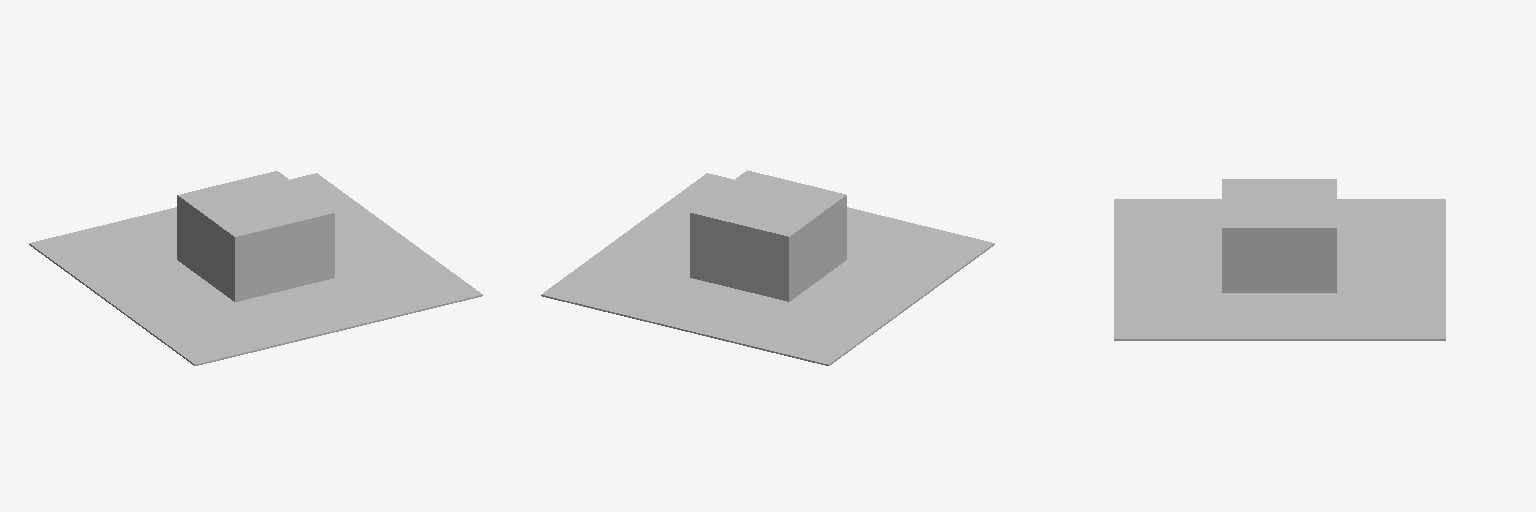
3 views of the same model, side by side, from view 1: azimuth 30°, elevation 25°; view 2: azimuth 150°, elevation 25°; view 3: azimuth 270°, elevation 25° (orthographic).
Parts seen in each view (by area): view 1: Floor, Skybox; view 2: Floor, Skybox; view 3: Floor, Skybox.
Part boxes in pixels (x1,y1,x2,y2): Floor: (29,173,482,365); Skybox: (177,171,334,301); Floor: (541,173,994,365); Skybox: (690,170,846,301); Floor: (1114,199,1445,340); Skybox: (1222,179,1336,292).
Size of the model in its own units: 774 by 269 by 774.